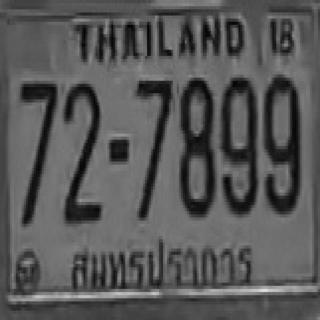N02: (63, 81, 100, 221)
N07: (18, 78, 56, 224), (135, 78, 171, 217)
N08: (177, 75, 216, 219)
N09: (262, 71, 301, 214), (220, 75, 257, 211)
P57: (63, 232, 259, 296)
